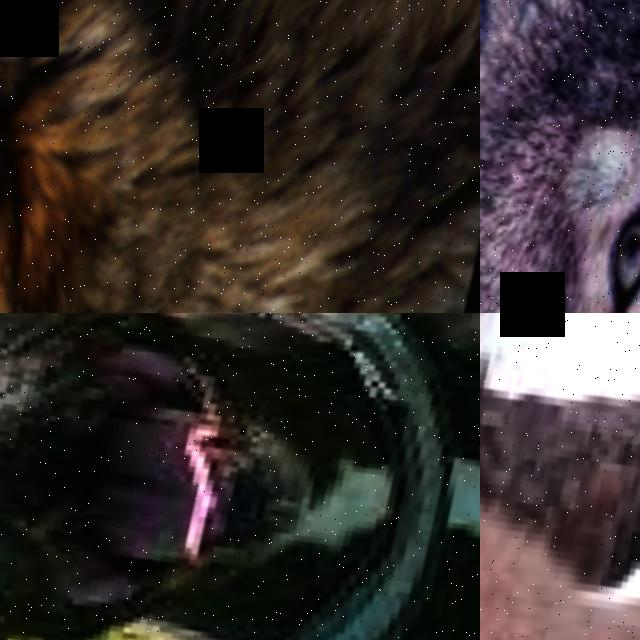dog: (0, 313, 480, 640)
wolf: (0, 0, 480, 313), (480, 313, 640, 640), (480, 0, 640, 313)
